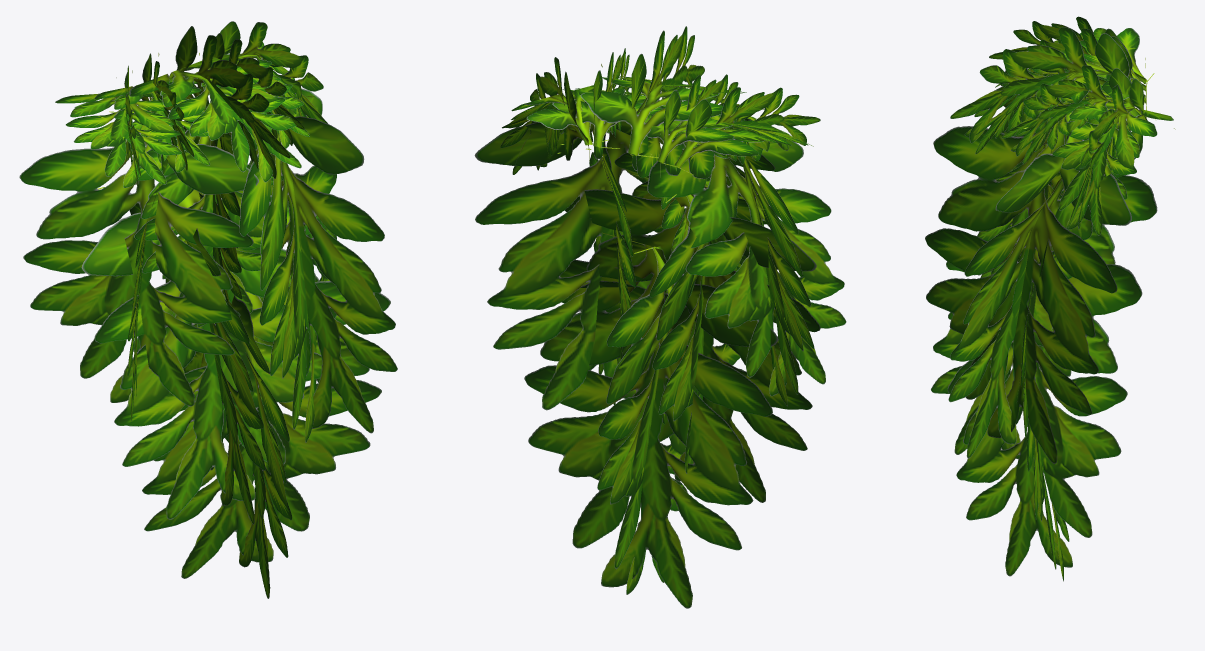
The model's file is HangingPlant02_Dream.glb.
3 renders of one model, left to right at view 1: azimuth 30°, elevation 25°; view 2: azimuth 150°, elevation 25°; view 3: azimuth 270°, elevation 25°, orthographic. The views are drawn at different scales.
Visible parts, largest first — view 1: HangingPlant02_dream; view 2: HangingPlant02_dream; view 3: HangingPlant02_dream.
Part boxes in pixels (box(x1,y1,x2,y2)): HangingPlant02_dream: box(19, 21, 397, 598); HangingPlant02_dream: box(474, 26, 846, 608); HangingPlant02_dream: box(925, 16, 1175, 581).
Bounding box in the file's own units: 1.15 × 1.82 × 0.8541.
1 material, 1 textured.
